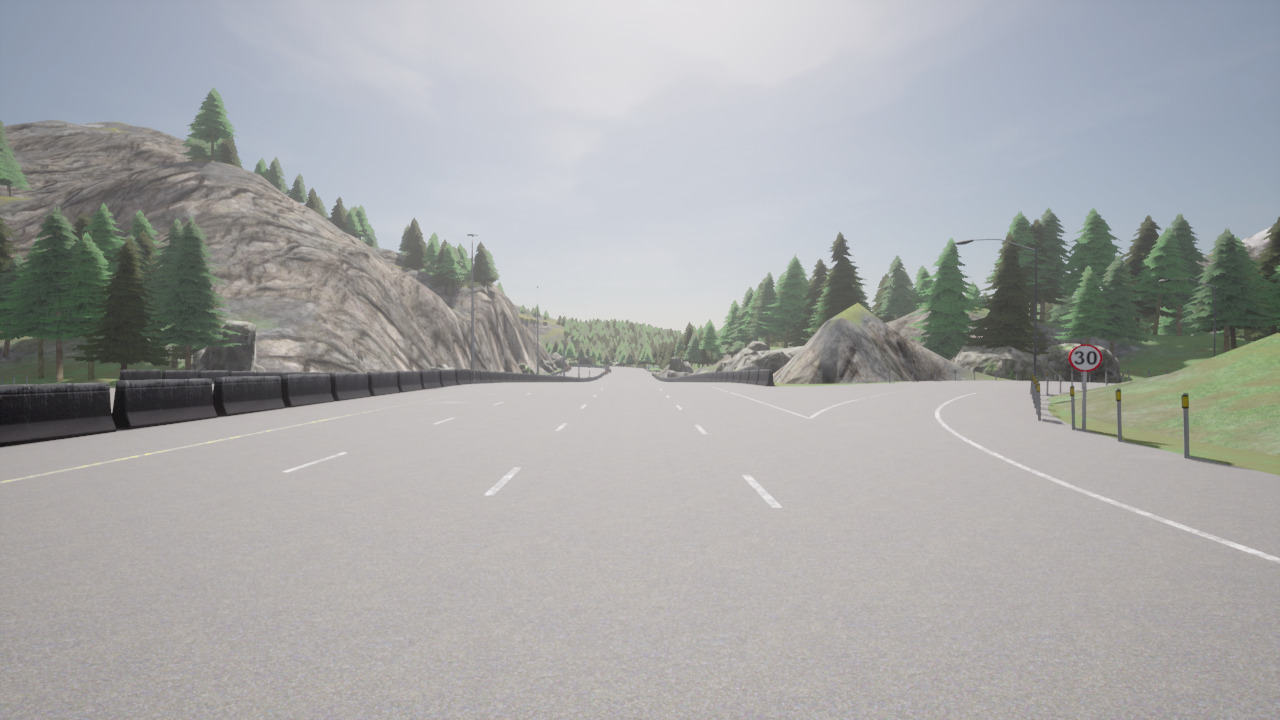sl30: (1068, 343, 1103, 373)
